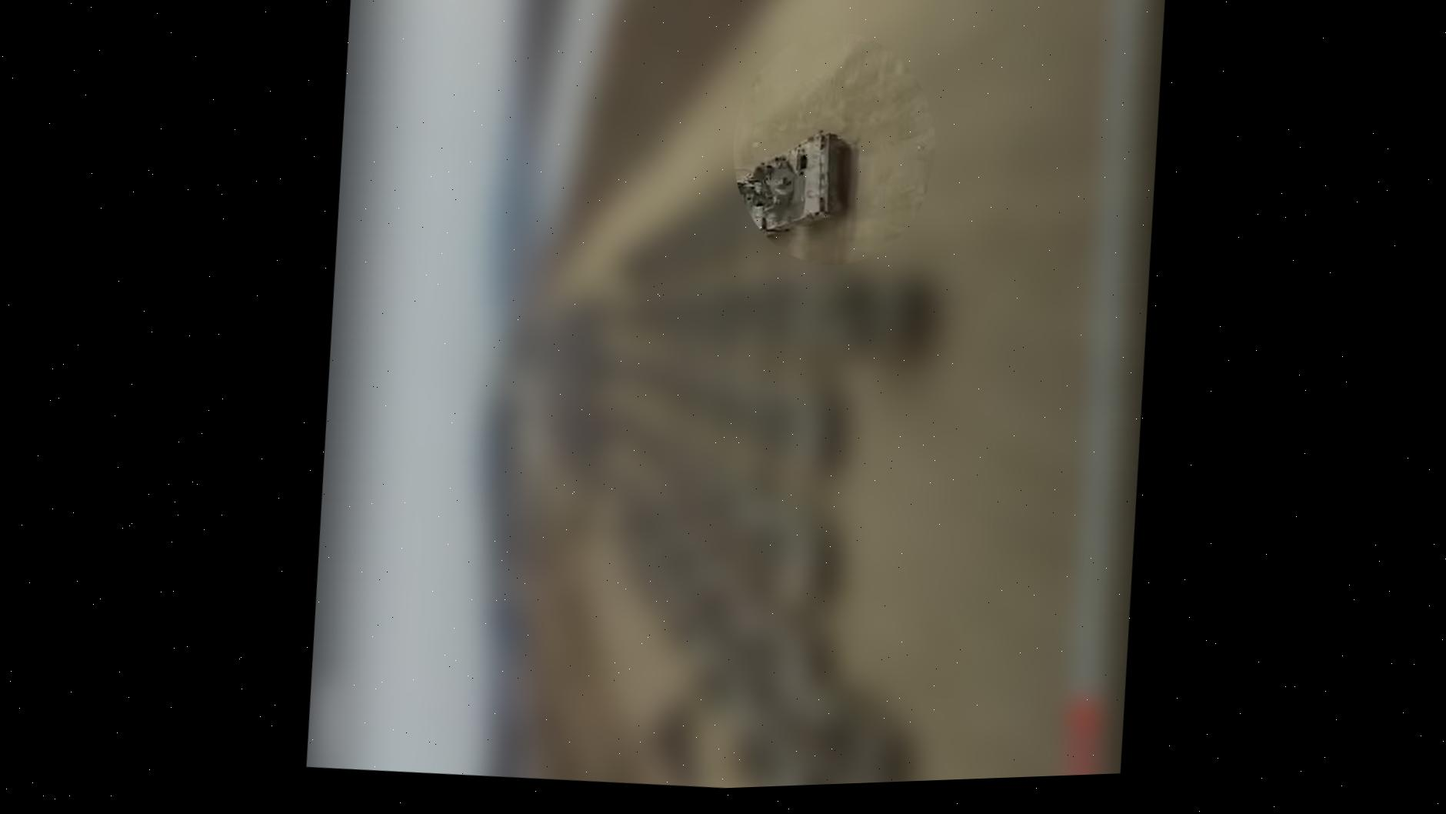tank: (729, 121, 855, 246)
